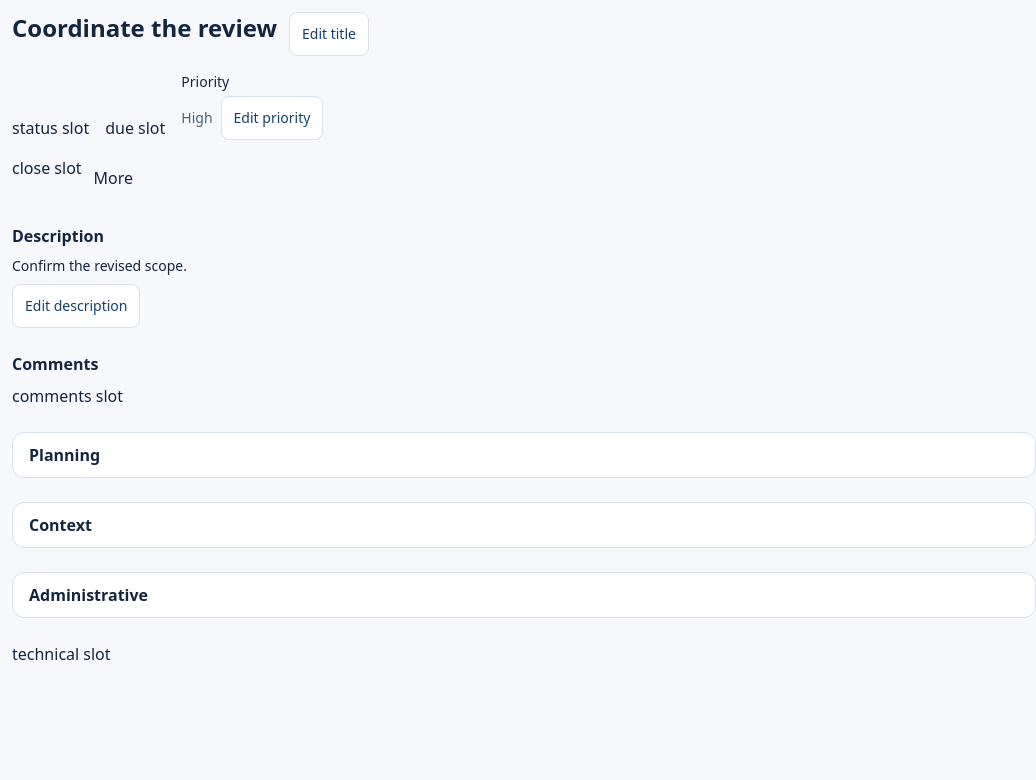
Test: progressive Task detail › opens Planning as read-first, then Edit planning reveals date fields
The image size is (1036, 780).
Click the heading "Planning": x=65, y=455 [29,444,100,466]
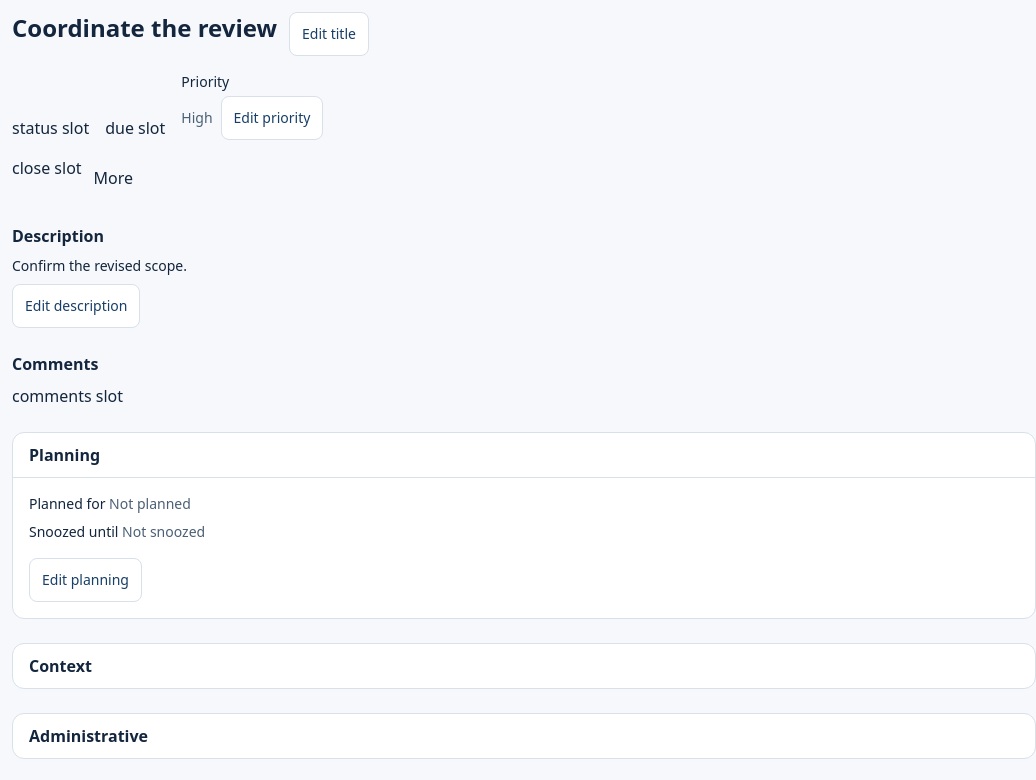
Now the text "Not planned" is shown, box [109,494,191,513]
Now the text "Not snoozed" is shown, box [122,522,205,541]
Click the button "Edit planning": x=86, y=580 [29,558,142,602]
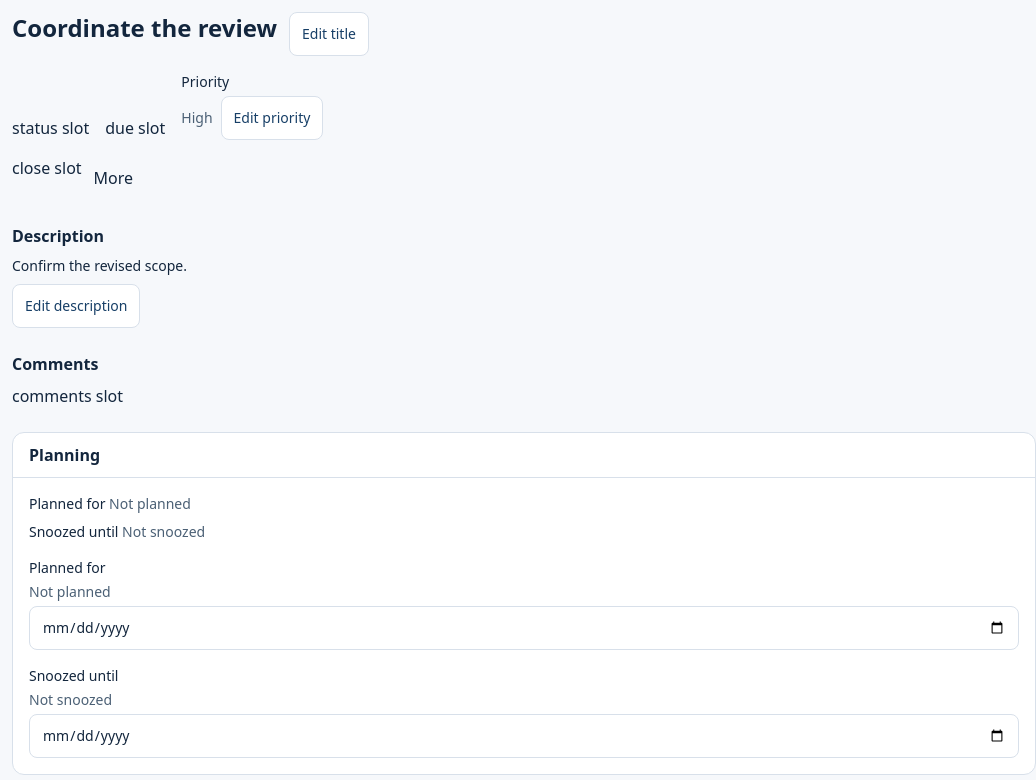
Now the date field labelled "Planned for" is shown, box [29,606,1019,650]
Now the date field labelled "Snoozed until" is shown, box [29,714,1019,758]
